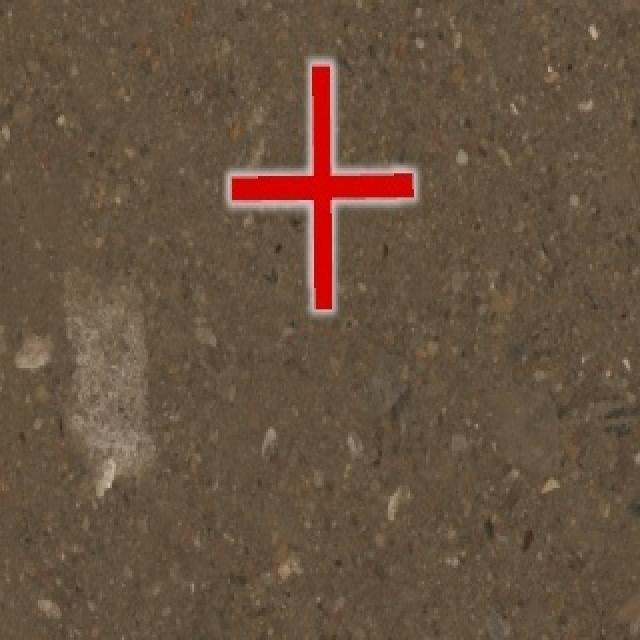x_marker: (229, 63, 413, 308)
